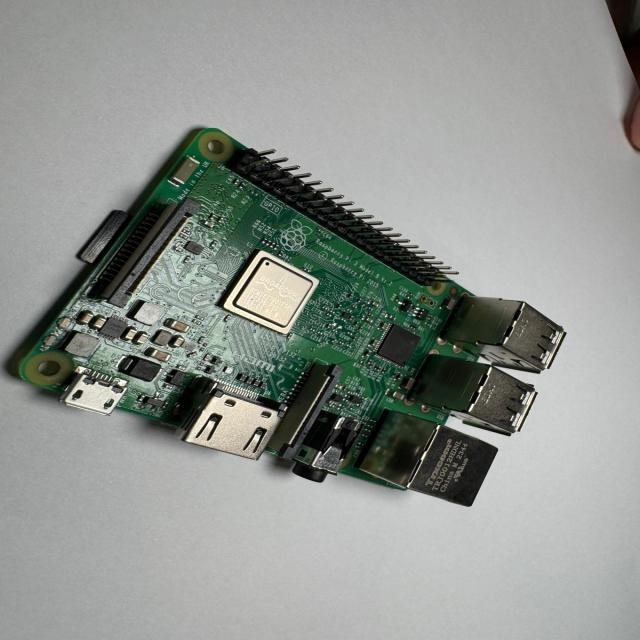CPU: (210, 245, 324, 337)
Ethernet: (358, 404, 503, 508)
GPIO: (227, 143, 463, 295)
HDMI: (170, 380, 293, 461)
RAM-3: (373, 323, 425, 371)
Raspberry: (18, 117, 575, 510)
